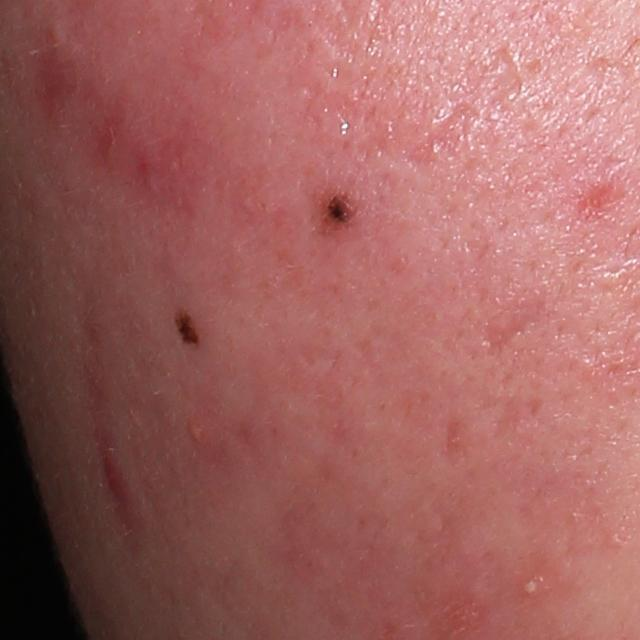atrophic_scar: (408, 101, 481, 164), (436, 416, 470, 467)
nevus: (306, 183, 362, 240), (173, 307, 197, 348)
papule: (177, 406, 223, 466), (97, 453, 133, 502)
pustule: (516, 567, 552, 601)
